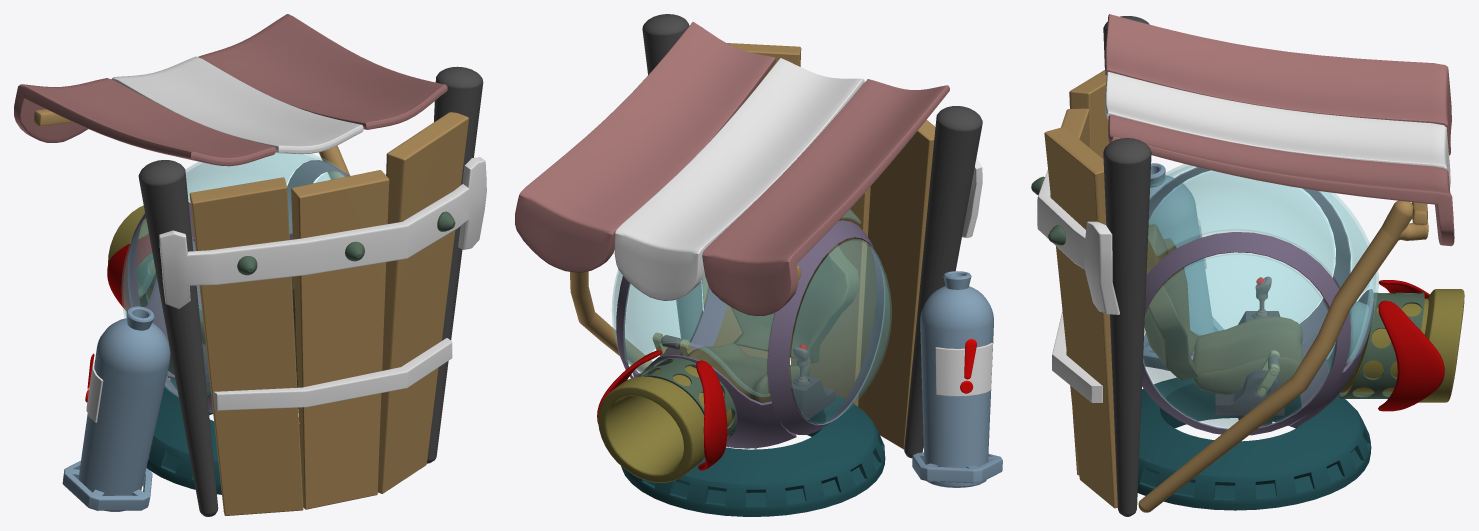
File: silah3.fbx
3 views of the same model, side by side, from view 1: azimuth 30°, elevation 25°; view 2: azimuth 150°, elevation 25°; view 3: azimuth 270°, elevation 25° (orthographic). The views are drawn at different scales.
Visible parts, largest first — view 1: pCube9, pCube3, pCube2, pCube1, polySurface29, pSphere6, pSphere2, pCube7, polySurface51, pSphere1, polySurface44, polySurface42 (+6 smaller); view 2: pCube9, polySurface44, pCube3, pSphere6, polySurface42, polySurface51, polySurface53, pSphere2, koltuk, polySurface106, pCube2, polySurface52 (+9 smaller); view 3: pCube9, polySurface52, polySurface44, polySurface42, polySurface51, pCube1, pSphere1, koltuk, pSphere7, polySurface105, polySurface29, pSphere6 (+10 smaller).
Boxes of the visible parts, x1=… form: pCube9: x1=14, y1=14, x2=447, y2=166; pCube3: x1=189, y1=177, x2=303, y2=515; pCube2: x1=291, y1=170, x2=389, y2=509; pCube1: x1=377, y1=112, x2=468, y2=493; polySurface29: x1=159, y1=157, x2=486, y2=308; pSphere6: x1=62, y1=306, x2=170, y2=511; pSphere2: x1=138, y1=160, x2=218, y2=516; pCube7: x1=214, y1=338, x2=452, y2=410; polySurface51: x1=137, y1=153, x2=347, y2=296; pSphere1: x1=427, y1=66, x2=483, y2=463; polySurface44: x1=146, y1=379, x2=298, y2=494; polySurface42: x1=121, y1=219, x2=210, y2=397; pCube9: x1=515, y1=22, x2=949, y2=315; polySurface44: x1=621, y1=395, x2=885, y2=516; pCube3: x1=858, y1=120, x2=935, y2=449; pSphere6: x1=912, y1=271, x2=1002, y2=487; polySurface42: x1=791, y1=239, x2=891, y2=424; polySurface51: x1=623, y1=209, x2=861, y2=396; polySurface53: x1=598, y1=366, x2=732, y2=482; pSphere2: x1=904, y1=106, x2=982, y2=458; koltuk: x1=687, y1=244, x2=859, y2=403; polySurface106: x1=767, y1=220, x2=884, y2=434; pCube2: x1=791, y1=186, x2=870, y2=406; polySurface52: x1=612, y1=269, x2=707, y2=376; pCube9: x1=1105, y1=14, x2=1454, y2=246; polySurface52: x1=1143, y1=254, x2=1334, y2=428; polySurface44: x1=1137, y1=377, x2=1371, y2=510; polySurface42: x1=1149, y1=171, x2=1334, y2=334; polySurface51: x1=1148, y1=164, x2=1378, y2=363; pCube1: x1=1044, y1=127, x2=1117, y2=508; pSphere1: x1=1103, y1=138, x2=1151, y2=516; koltuk: x1=1144, y1=224, x2=1302, y2=394; pSphere7: x1=1138, y1=200, x2=1428, y2=512; polySurface105: x1=1142, y1=232, x2=1350, y2=435; polySurface29: x1=1031, y1=170, x2=1119, y2=314; pSphere6: x1=1143, y1=163, x2=1223, y2=370.
Size of the model in its own units: 17.36 by 16.84 by 16.98.
